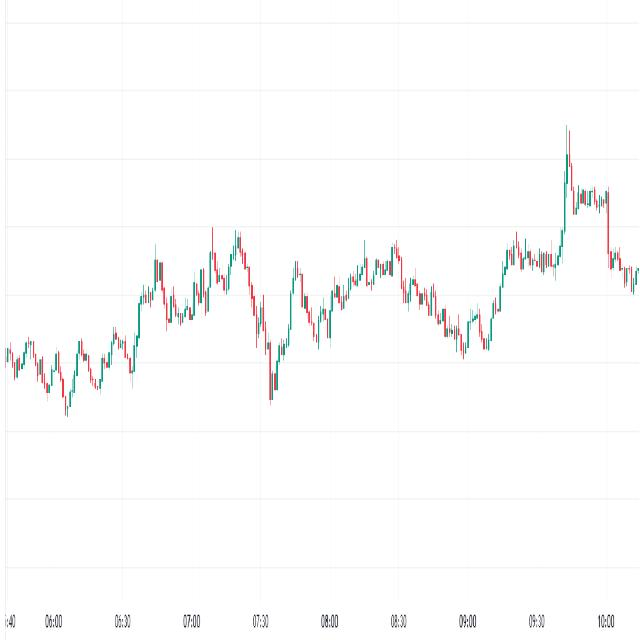Inverse-Head-Shoulders: (240, 247, 296, 421)
rectangle: (21, 327, 128, 407), (500, 228, 566, 282)
